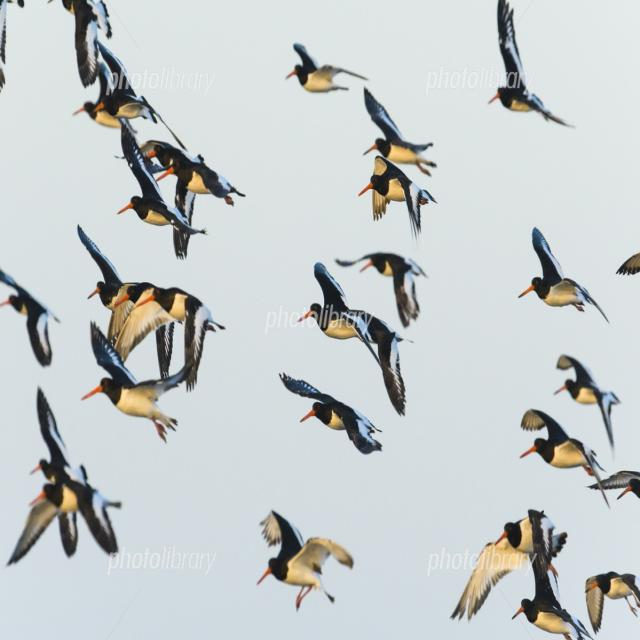bird: (83, 286, 210, 451), (17, 381, 127, 569), (112, 137, 247, 253), (451, 506, 564, 628), (487, 4, 581, 139), (66, 26, 168, 136), (254, 512, 358, 610), (522, 226, 614, 328), (275, 379, 388, 458), (332, 307, 411, 419), (353, 88, 441, 180), (331, 250, 430, 331), (0, 263, 62, 371), (161, 290, 229, 388), (358, 154, 438, 237), (553, 353, 626, 443), (515, 410, 606, 480), (300, 260, 358, 334), (284, 44, 366, 94), (584, 572, 640, 636), (584, 468, 639, 507)
